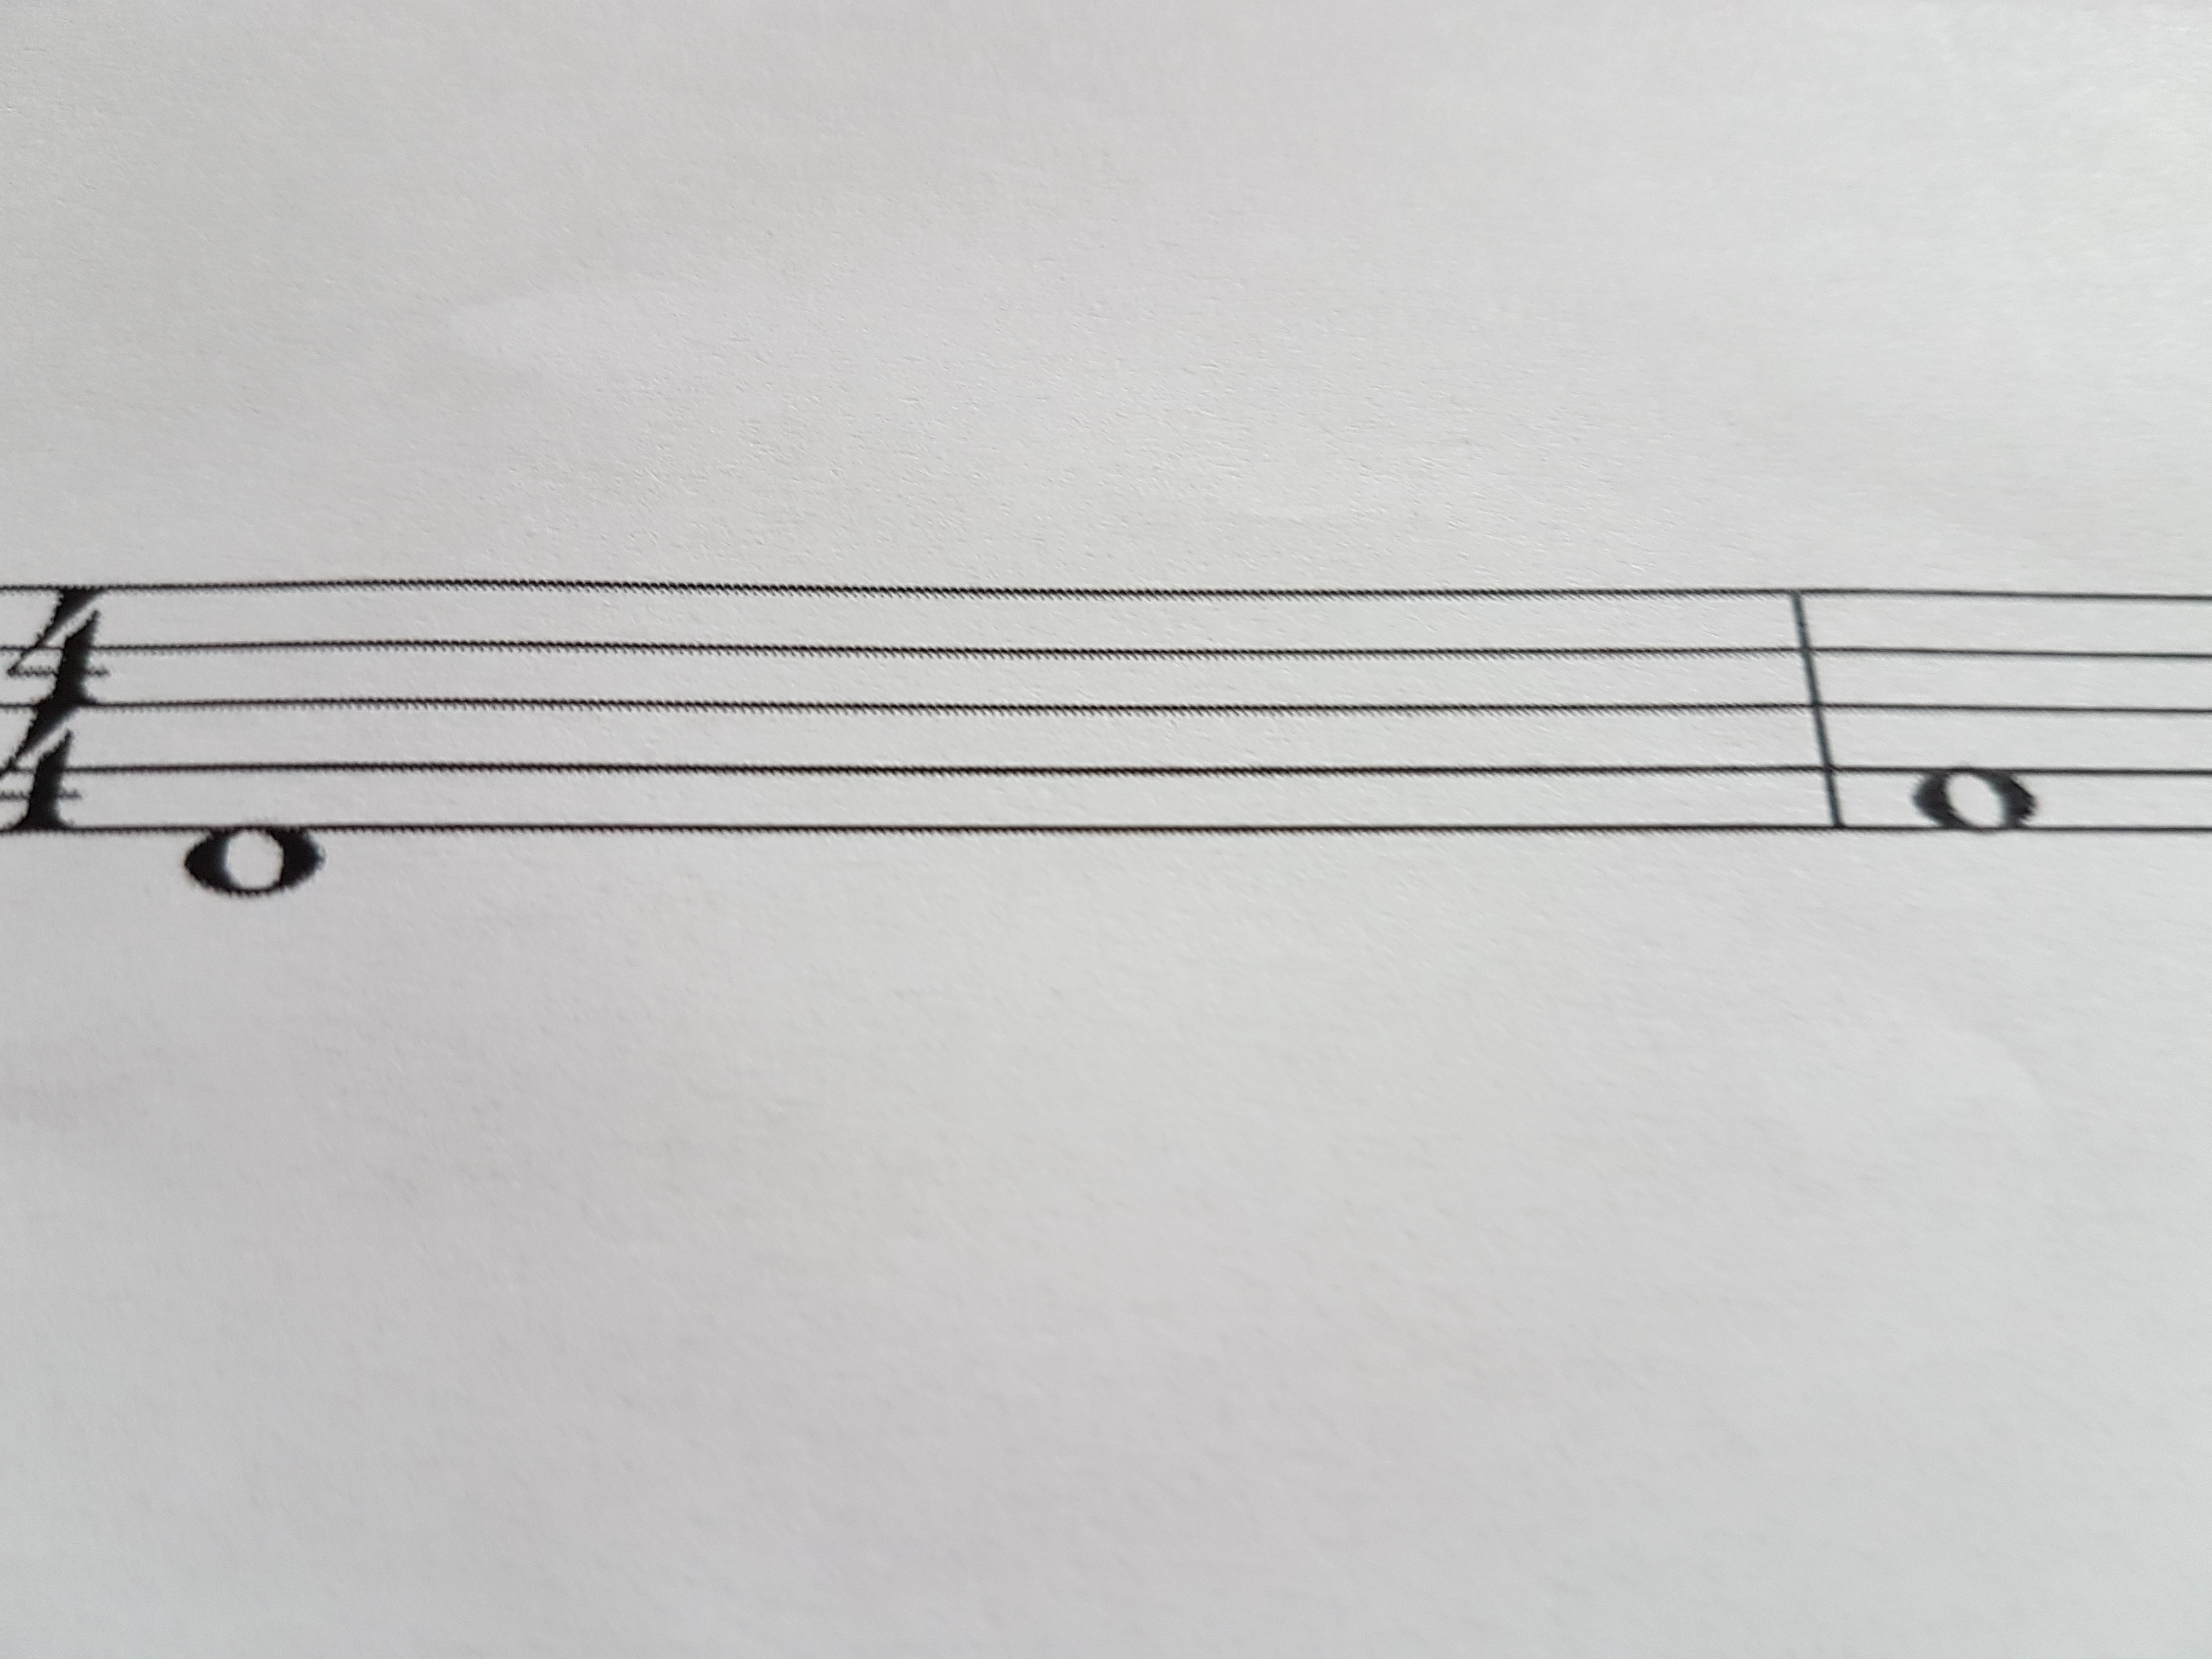pipe: (1773, 570, 1860, 850)
semibreve_d: (164, 495, 334, 997)
semibreve_f: (1886, 532, 2048, 922)
